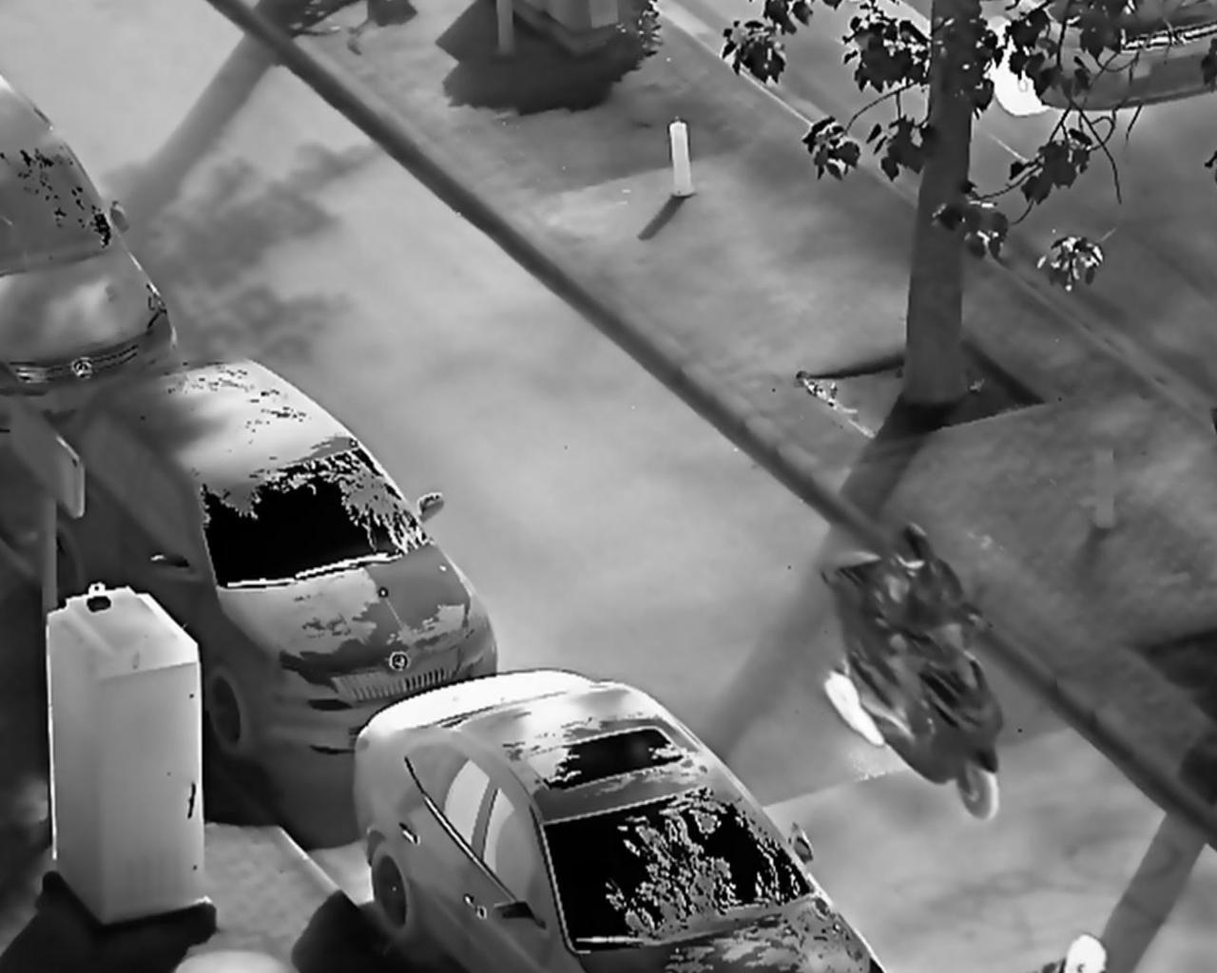person: (861, 519, 997, 747)
